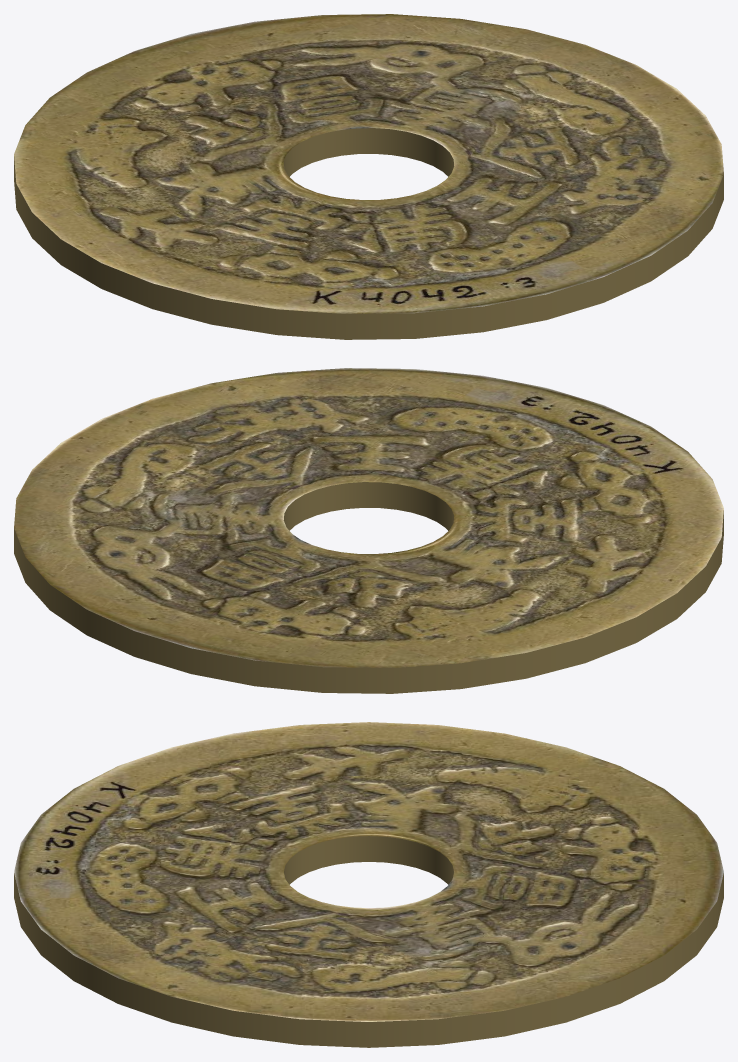
The model's file is coin.glb.
The picture shows the model from 3 angles, top to bottom: view 1: azimuth 30°, elevation 25°; view 2: azimuth 150°, elevation 25°; view 3: azimuth 270°, elevation 25°; orthographic projection.
Visible parts, largest first — view 1: Cylinder.001, Cylinder.002; view 2: Cylinder.001, Cylinder.002; view 3: Cylinder.001, Cylinder.002.
Boxes of the visible parts, x1=… form: Cylinder.001: x1=14, y1=14, x2=723, y2=313; Cylinder.002: x1=14, y1=128, x2=723, y2=339; Cylinder.001: x1=14, y1=368, x2=723, y2=667; Cylinder.002: x1=14, y1=482, x2=723, y2=693; Cylinder.001: x1=14, y1=722, x2=723, y2=1021; Cylinder.002: x1=14, y1=836, x2=723, y2=1047.
Bounding box in the file's own units: 0.05 × 0.002 × 0.05.
Materials: 2 (1 with a texture image).
